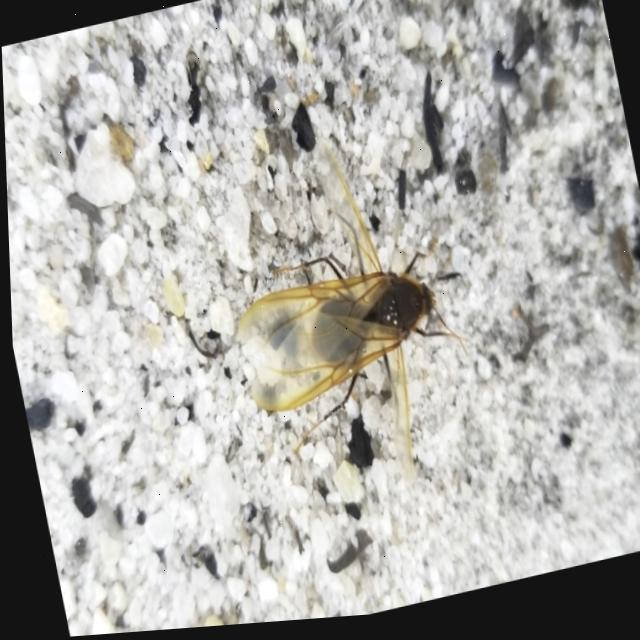Alive-Male-Alate: (199, 113, 493, 525)
